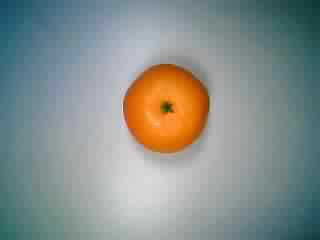orange: (115, 61, 216, 156)
